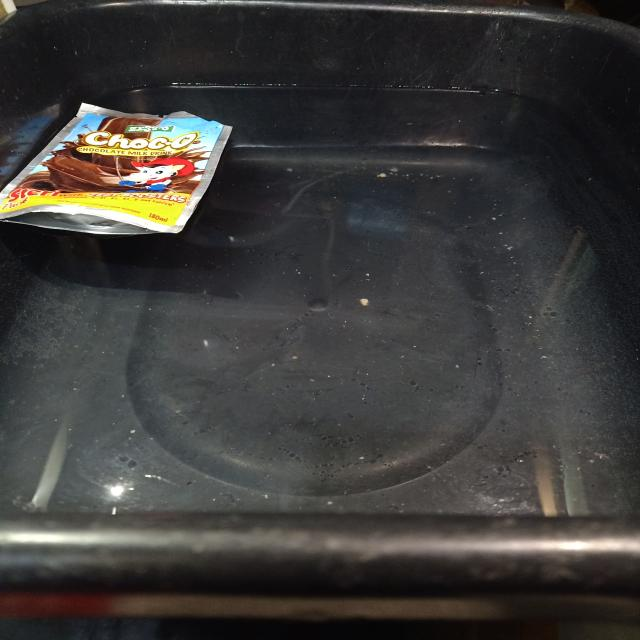Plastic Pouch: (0, 103, 232, 235)
